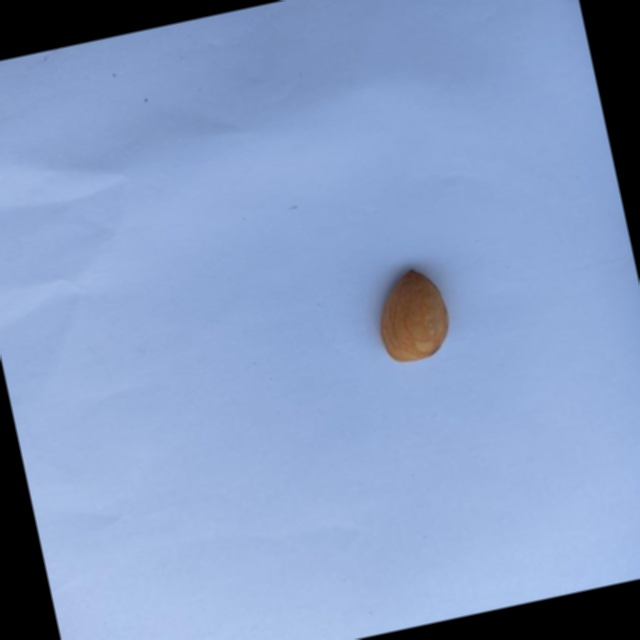grade2: (362, 261, 460, 371)
